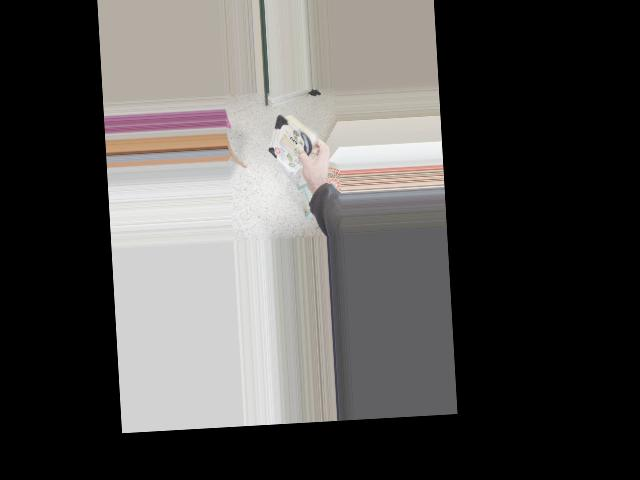cheese: (259, 111, 335, 170)
